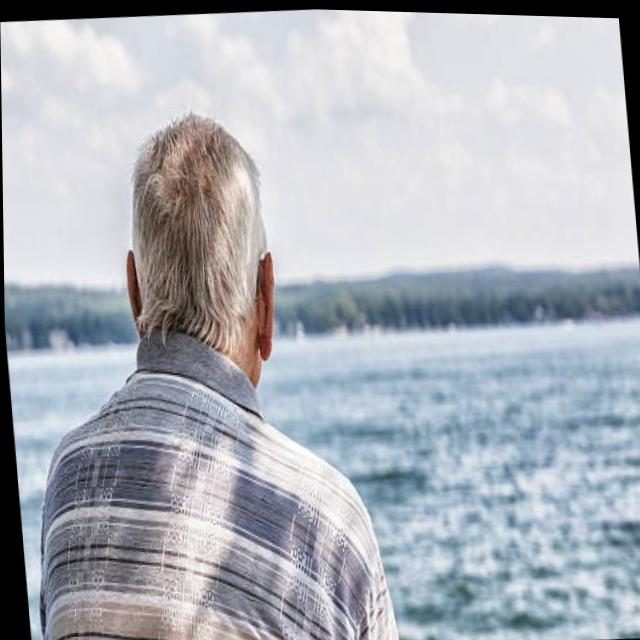no helmet: (100, 93, 305, 421)
